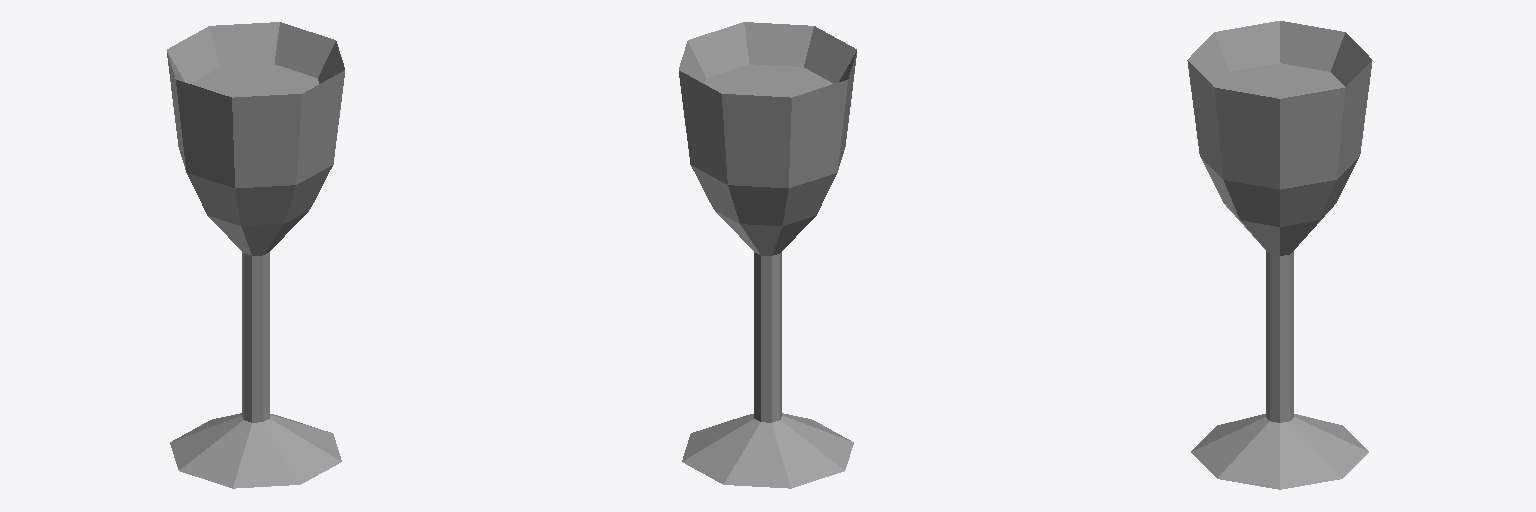
The model's file is WineGlass.obj.
3 views of the same model, side by side, from view 1: azimuth 30°, elevation 25°; view 2: azimuth 150°, elevation 25°; view 3: azimuth 270°, elevation 25° (orthographic).
Visible parts, largest first — view 1: Mesh_1430.rip.001; view 2: Mesh_1430.rip.001; view 3: Mesh_1430.rip.001.
Part boxes in pixels (bbox=[...]): Mesh_1430.rip.001: bbox=[167, 22, 344, 488]; Mesh_1430.rip.001: bbox=[679, 22, 856, 488]; Mesh_1430.rip.001: bbox=[1187, 21, 1372, 489].
Size of the model in its own units: 0.1032 by 0.241 by 0.1032.